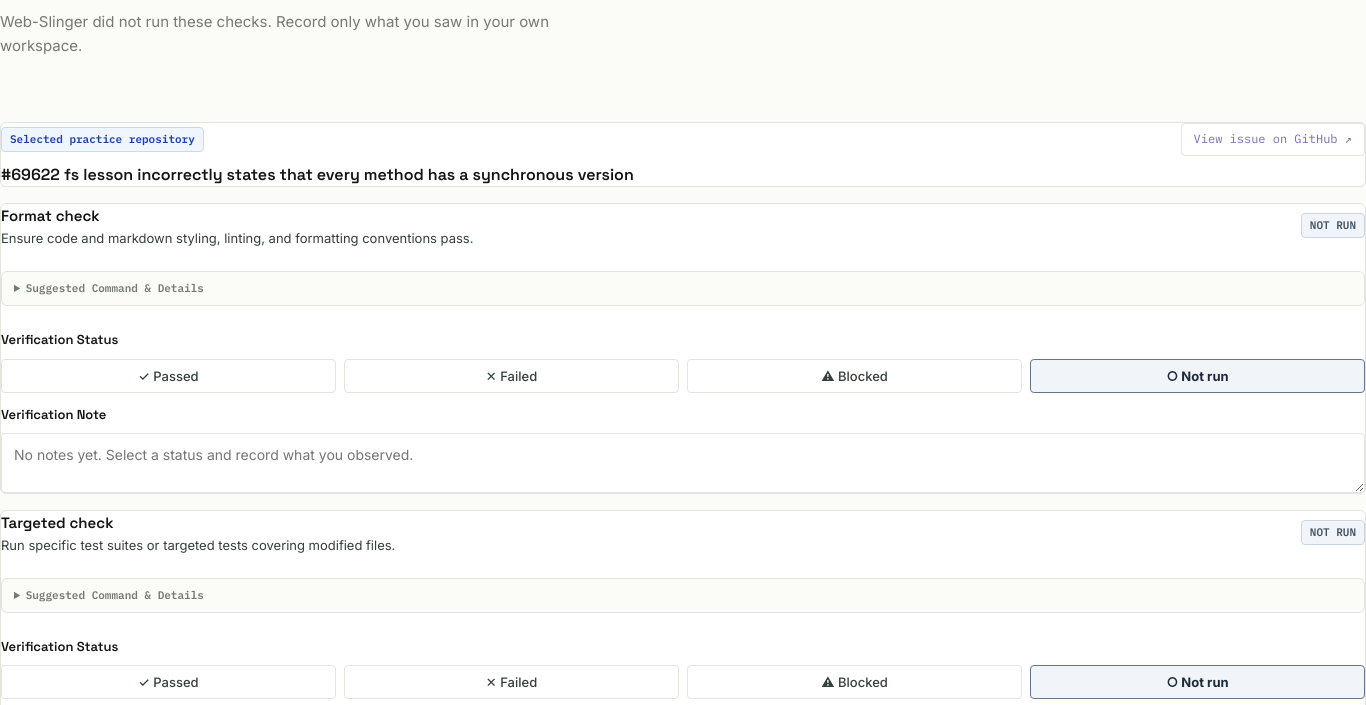
Test: Simplified VerifyCanvas Component & Verification Flow › updates Evidence Trail with real saved sources and user-recorded checks
Mark Format check as Passed and add note
Click the button "✓ Passed" below "Format check" at (168, 376), box [1,359,336,393]
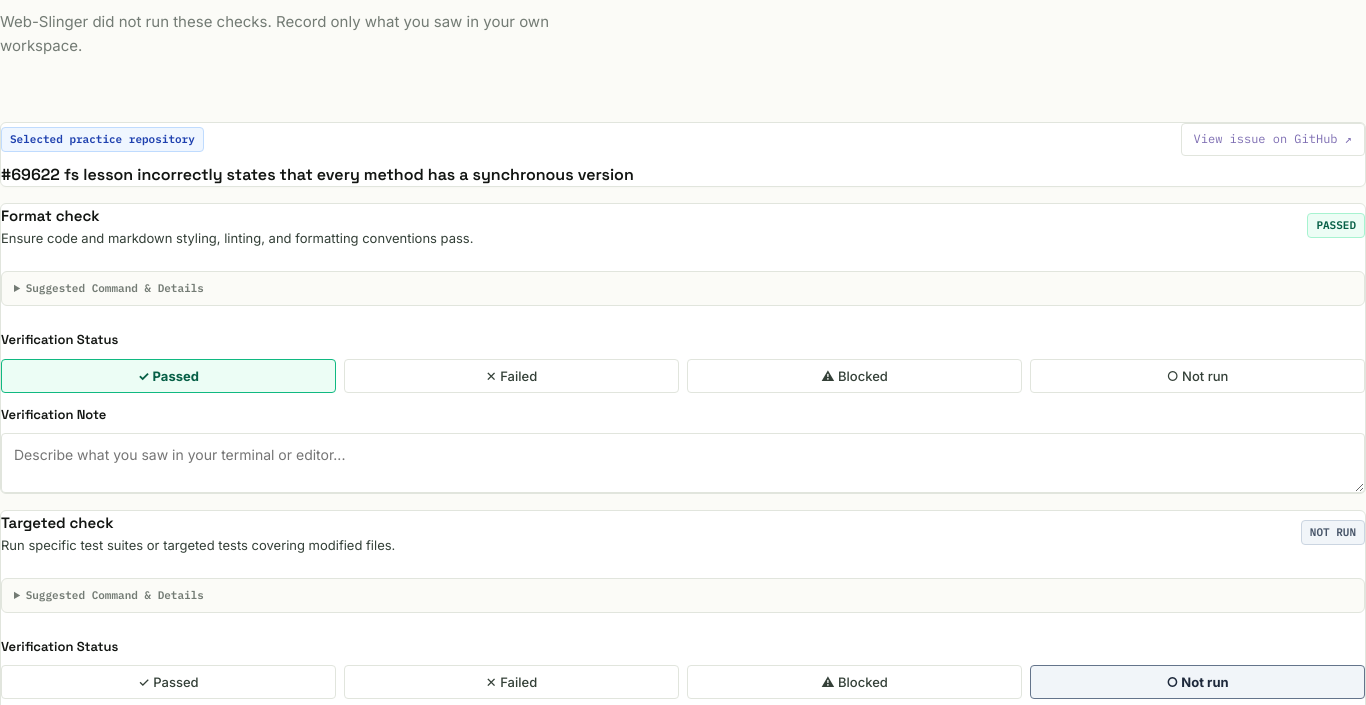
Type "Prettier and ESLint passed cleanly with exit code 0." into the text box labelled "Verification Note" at (683, 463), box [1,433,1365,493]
(page scrolled)
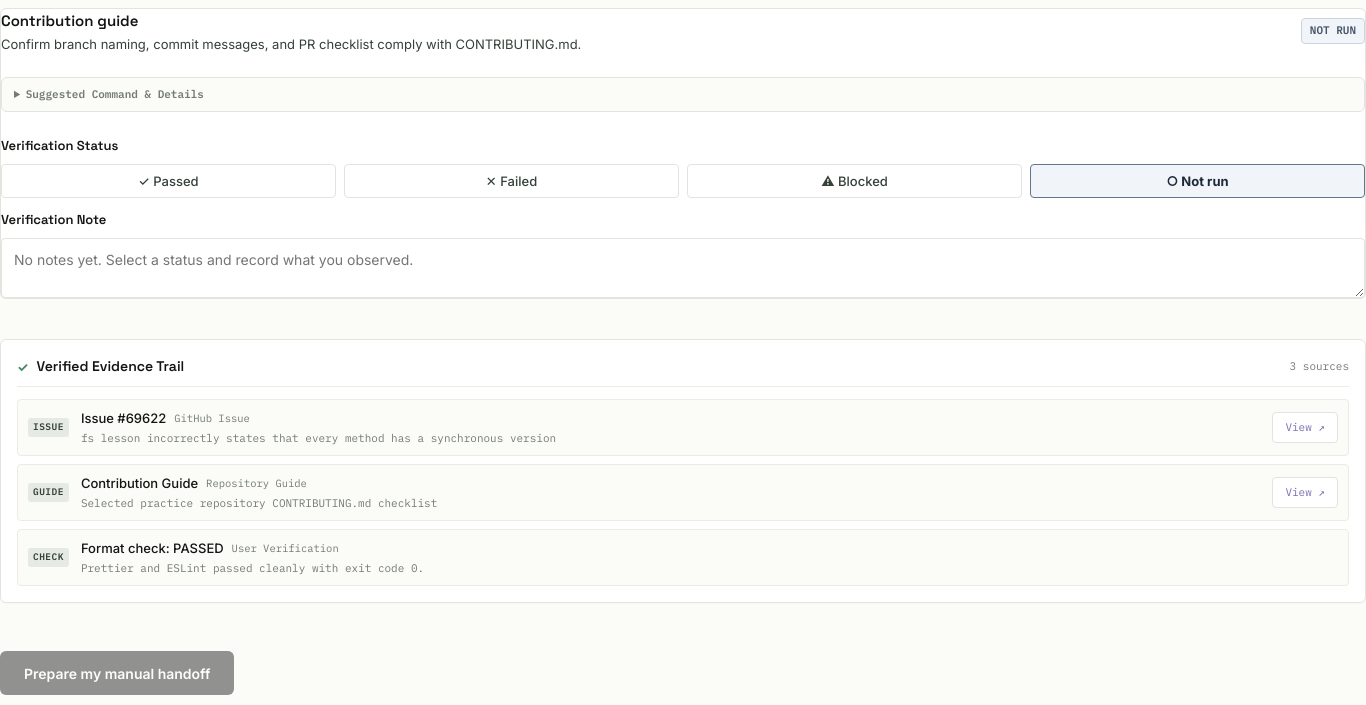
Expected: the element "Evidence Trail" shows "Format check: PASSED", [81,540,224,556]
Expected: the element "Evidence Trail" shows "Prettier and ESLint passed cleanly with exit code 0.", [81,561,424,575]
